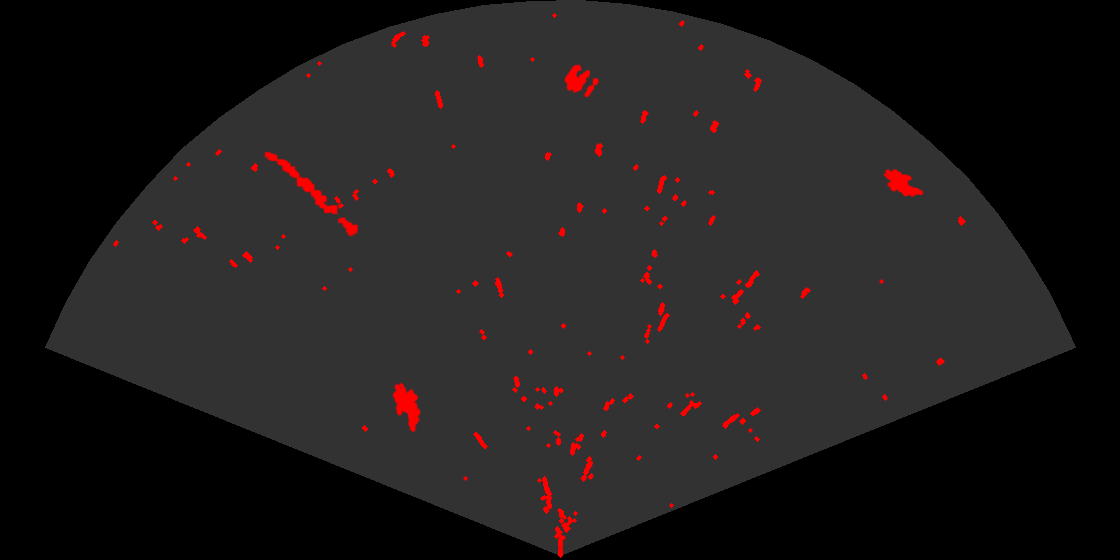AUV: (391, 381, 422, 434), (882, 167, 925, 199)
ball: (563, 63, 600, 99)
chain: (263, 150, 360, 238)
